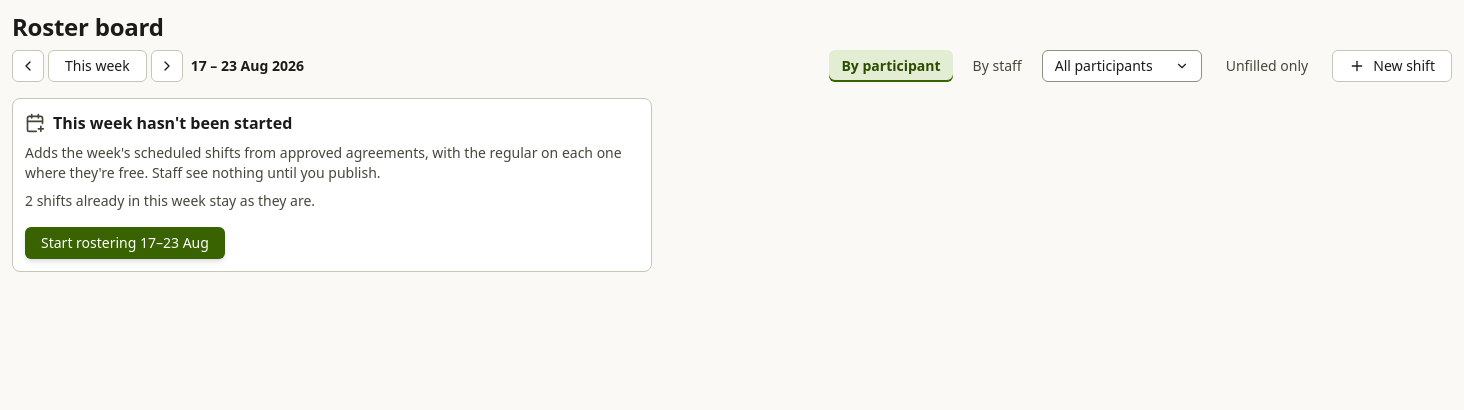
Test case: Start rostering › nothing to make: "Started 17–23 Aug" and why
This screenshot has width=1464, height=410.
Step 1. Click the button "Start rostering 17–23 Aug" → (125, 243), box [25,227,225,259]
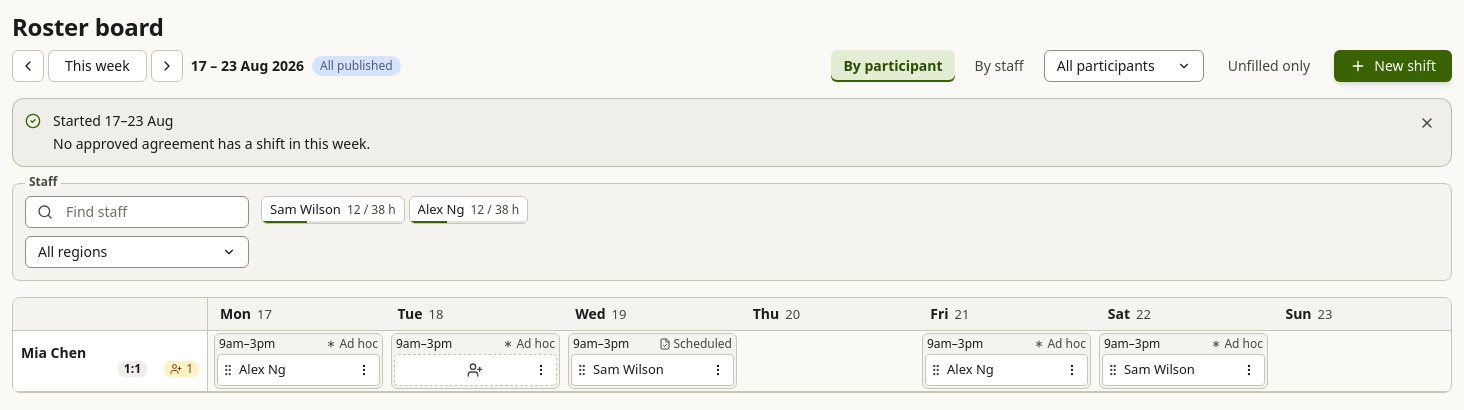
Expected: the text "Started 17–23 Aug" is shown, [53,111,174,130]
Expected: the text "No approved agreement has a shift in this week." is shown, [53,134,370,153]
